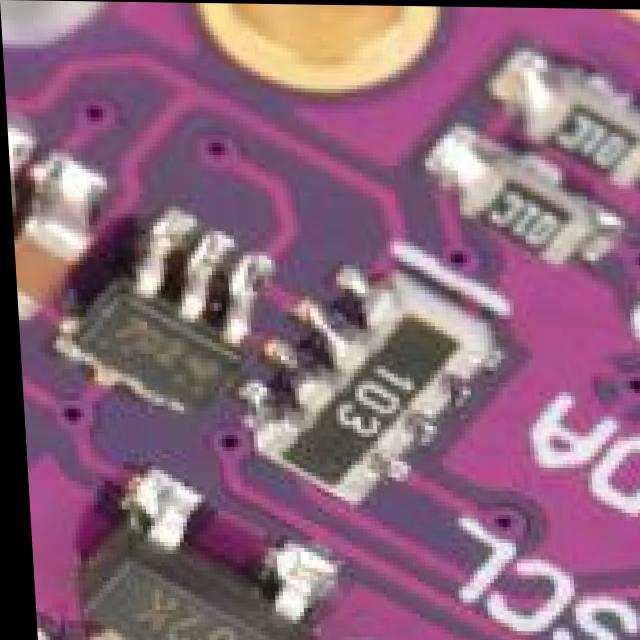IC: (55, 247, 276, 427)
capacitor: (9, 196, 75, 329)
resistor: (259, 275, 483, 505), (518, 42, 640, 199), (435, 151, 580, 259)
transistor: (75, 489, 338, 640)
